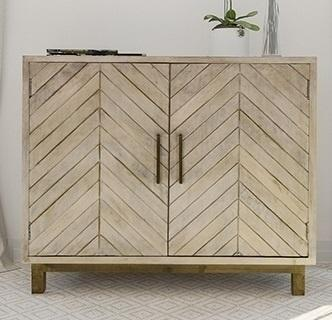cabinet_door: (169, 62, 308, 258), (30, 62, 169, 256)
handle: (154, 130, 163, 186), (176, 132, 184, 186)
